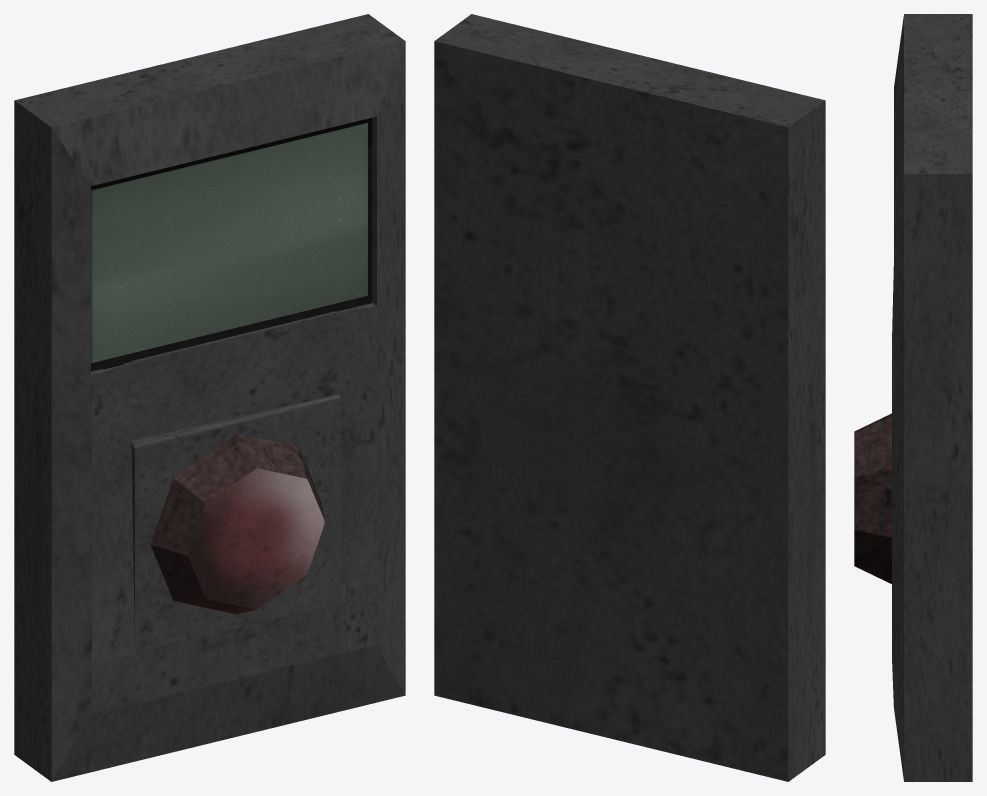
Rendered from Button.glb.
3 views of the same model, side by side, from view 1: azimuth 30°, elevation 25°; view 2: azimuth 150°, elevation 25°; view 3: azimuth 270°, elevation 25° (orthographic). The views are drawn at different scales.
Parts seen in each view (by area): view 1: Door Button; view 2: Door Button; view 3: Door Button.
Boxes of the visible parts, <box> form: Door Button: <box>14,14,405,781</box>; Door Button: <box>434,14,825,781</box>; Door Button: <box>854,14,972,781</box>.
Bounding box in the file's own units: 0.18 × 0.318 × 0.0563.
Materials: 2 (1 with a texture image).
